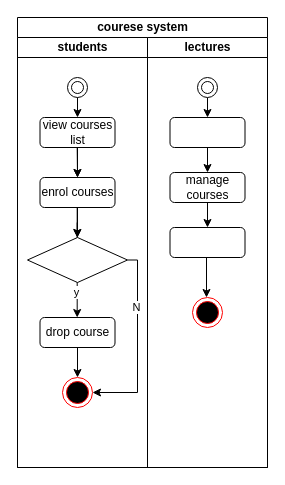
The diagram is 285 pixels wide and 485 high, and some of its shapes have lost their labels. Each missing label, with the centre of its shape:
"if drop course" goes at (x=77, y=259).
"manage students" goes at (x=207, y=242).
"set courses" goes at (x=207, y=132).
